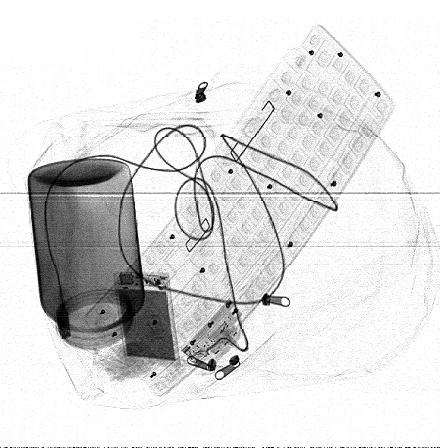Powerbank: (113, 270, 181, 366)
